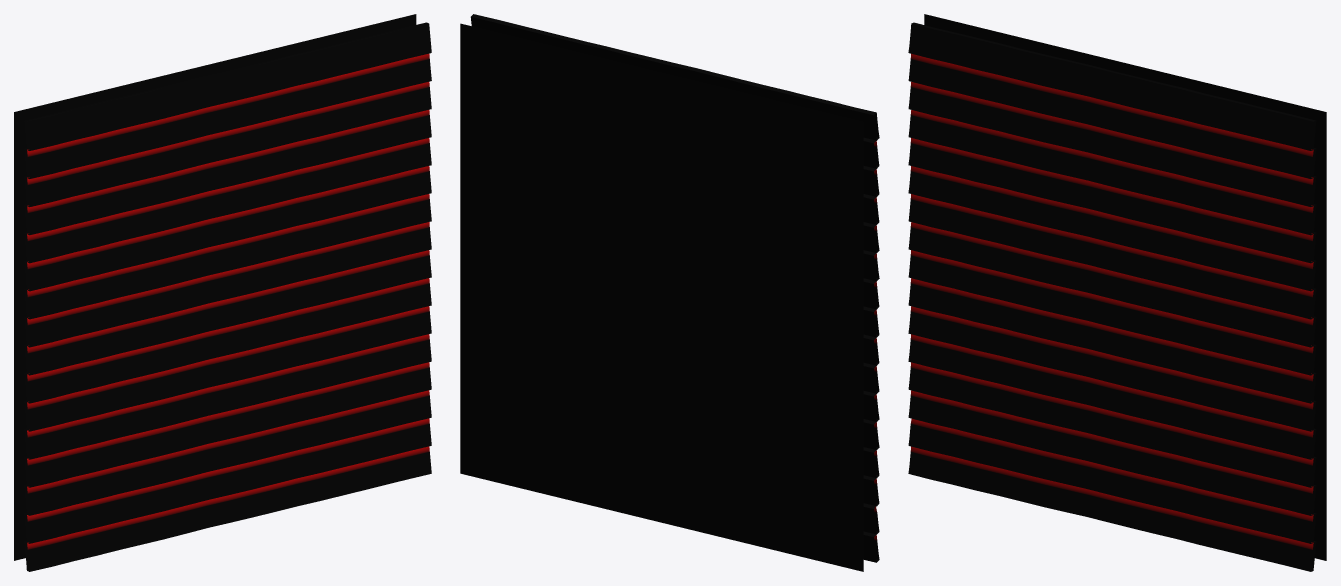
File: SM_House_ExtWall_300CM.fbx
3 views of the same model, side by side, from view 1: azimuth 30°, elevation 25°; view 2: azimuth 150°, elevation 25°; view 3: azimuth 330°, elevation 25° (orthographic).
Parts seen in each view (by area): view 1: SM_House_ExtWall_300CM; view 2: SM_House_ExtWall_300CM; view 3: SM_House_ExtWall_300CM.
Boxes of the visible parts, x1,y1,x2,y2 form: SM_House_ExtWall_300CM: [14, 14, 431, 571]; SM_House_ExtWall_300CM: [460, 14, 879, 571]; SM_House_ExtWall_300CM: [908, 14, 1326, 571].
Size of the model in its own units: 300 by 20.38 by 321.
